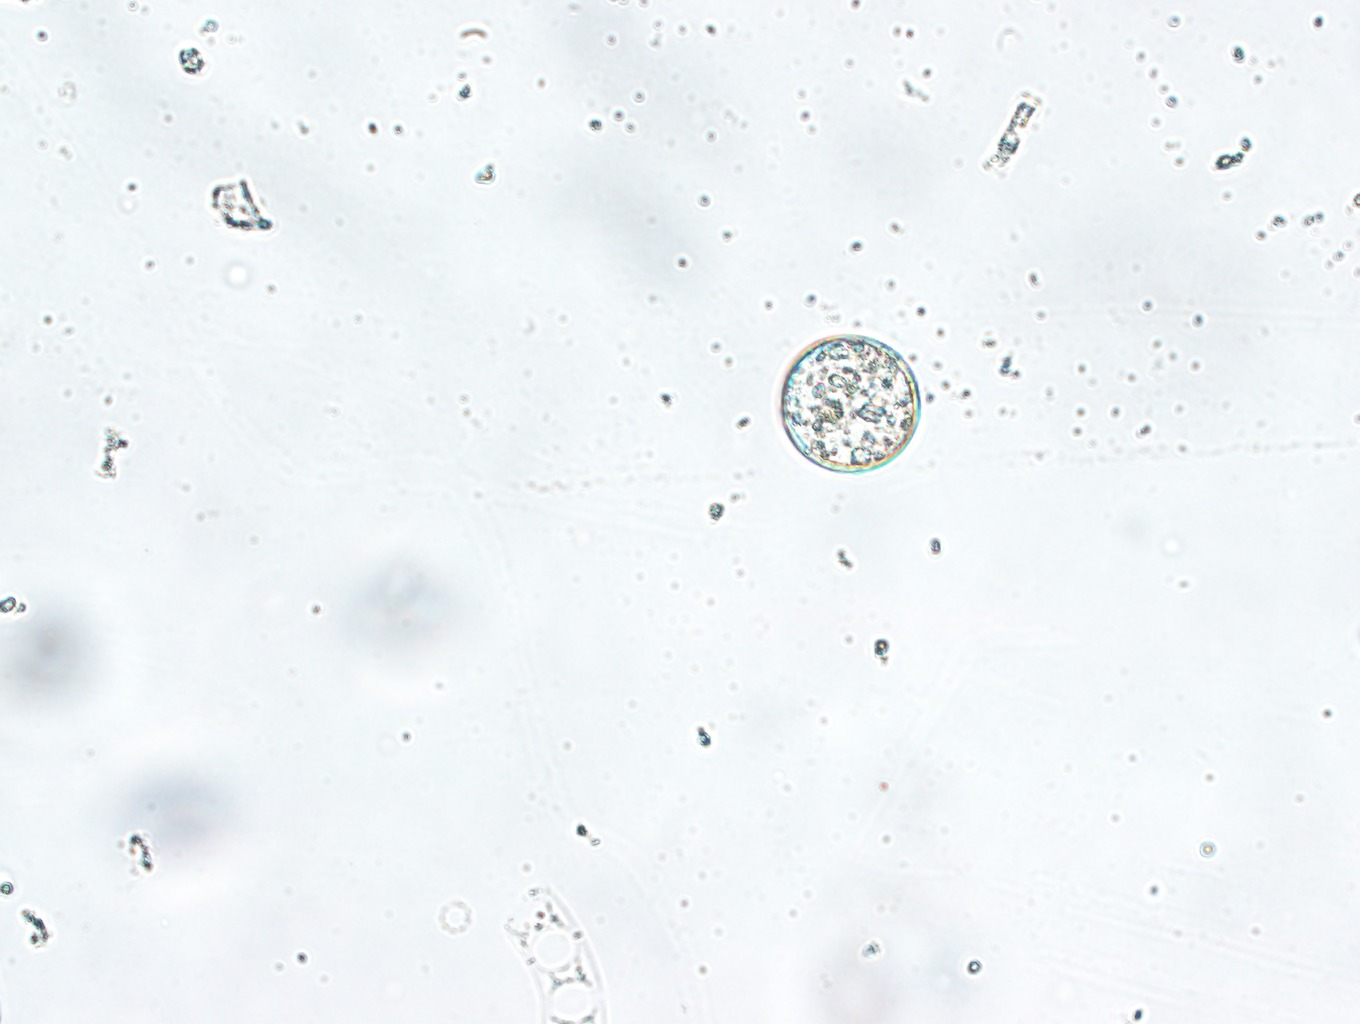coscinodiscus: (775, 333, 920, 473)
eucampia: (502, 885, 611, 1024)
